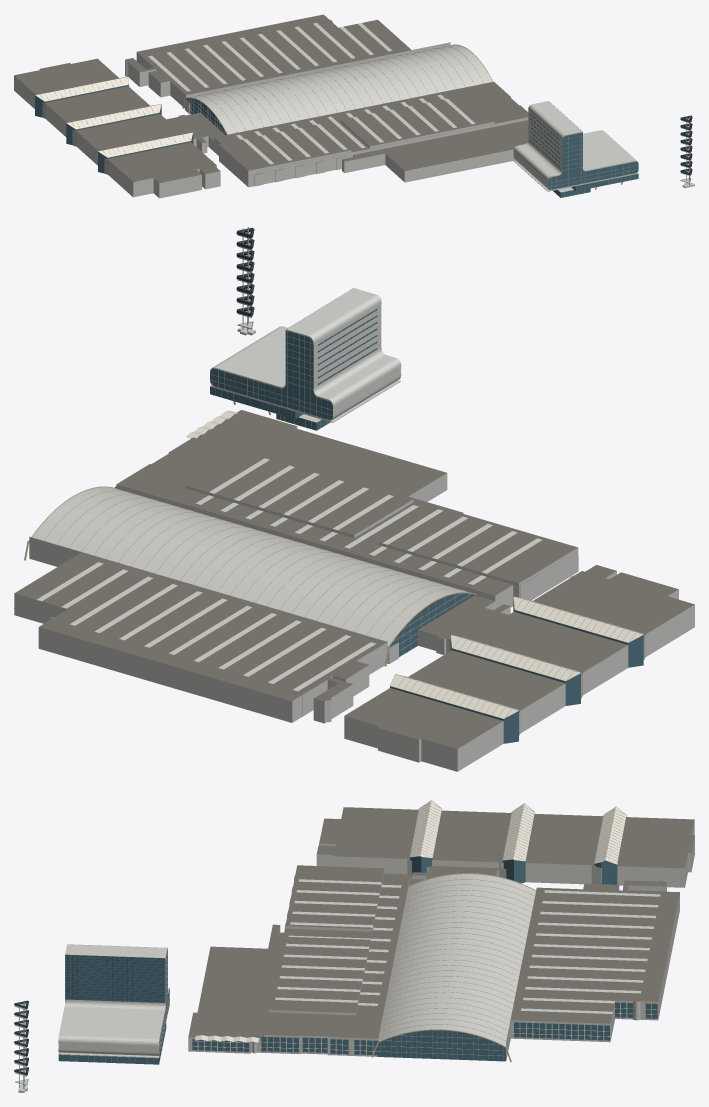
The model's file is rai-amsterdam.glb.
3 renders of one model, top to bottom at view 1: azimuth 30°, elevation 25°; view 2: azimuth 150°, elevation 25°; view 3: azimuth 270°, elevation 25°, orthographic. The views are drawn at different scales.
Parts seen in each view (by area): view 1: rai-amsterdam; view 2: rai-amsterdam; view 3: rai-amsterdam.
Boxes of the visible parts, box(x1,y1,x2,y2) form: rai-amsterdam: box(14, 14, 694, 198); rai-amsterdam: box(14, 227, 694, 771); rai-amsterdam: box(14, 800, 694, 1092).
Bounding box in the file's own units: 332 × 51.13 × 358.
